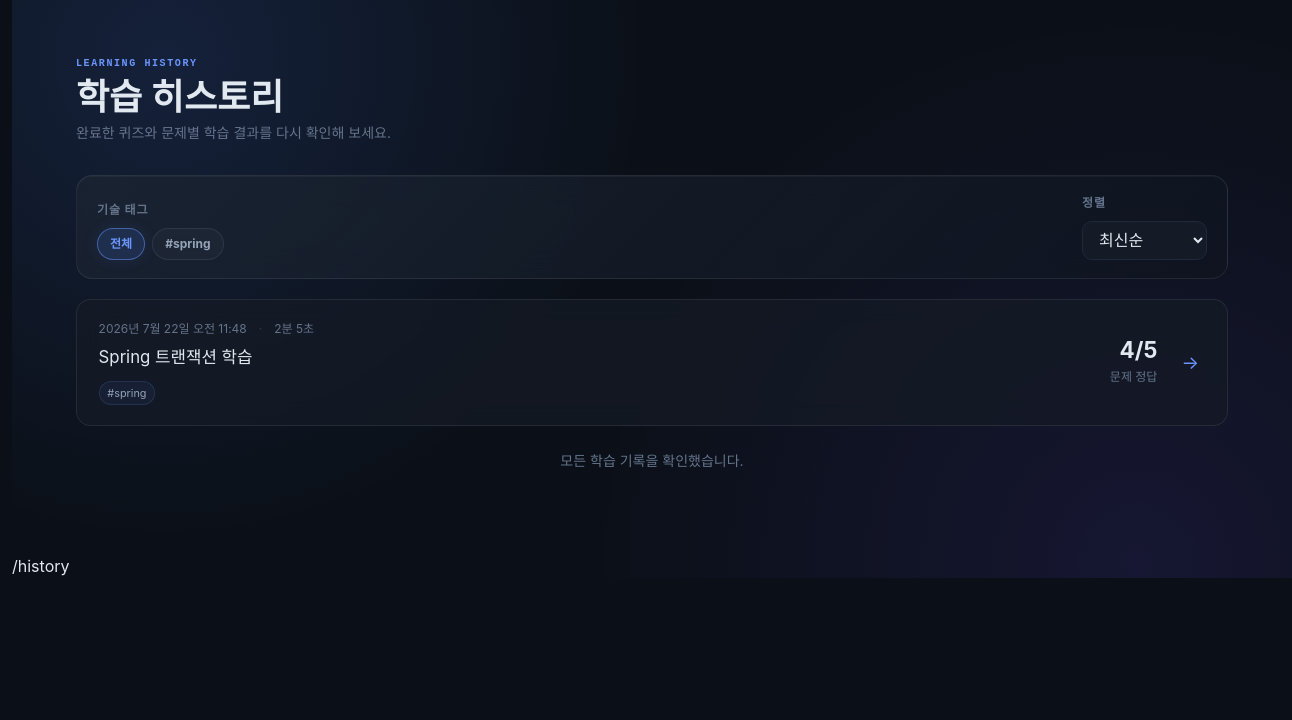
Test case: HistoryPage › 태그와 정렬 선택을 URL query 및 조회 조건에 반영한다
Step 1. Click the button "#spring" → (188, 244), box [152,228,224,260]
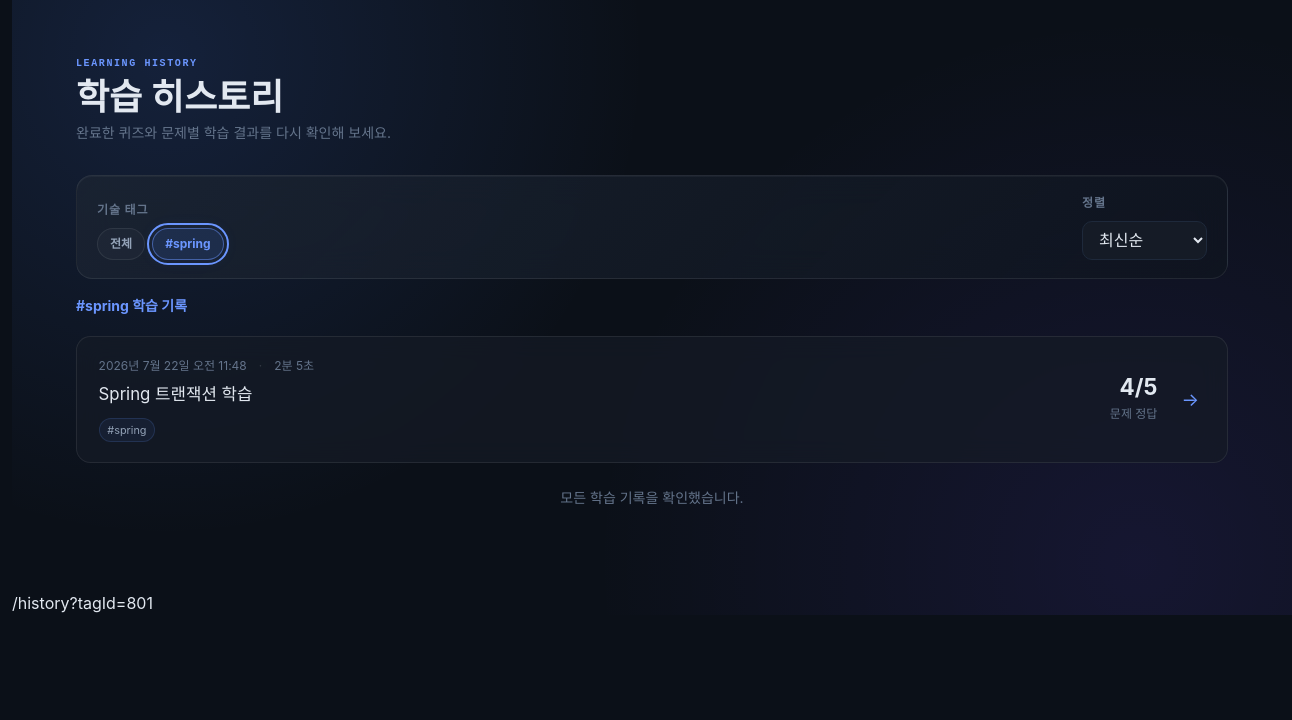
Result: the text named "현재 주소" reads "/history?tagId=801" at [12,593,153,613]
Step 2. Select "오래된순" in the dropdown labelled "정렬" → (1144, 240), box [1082,221,1207,260]
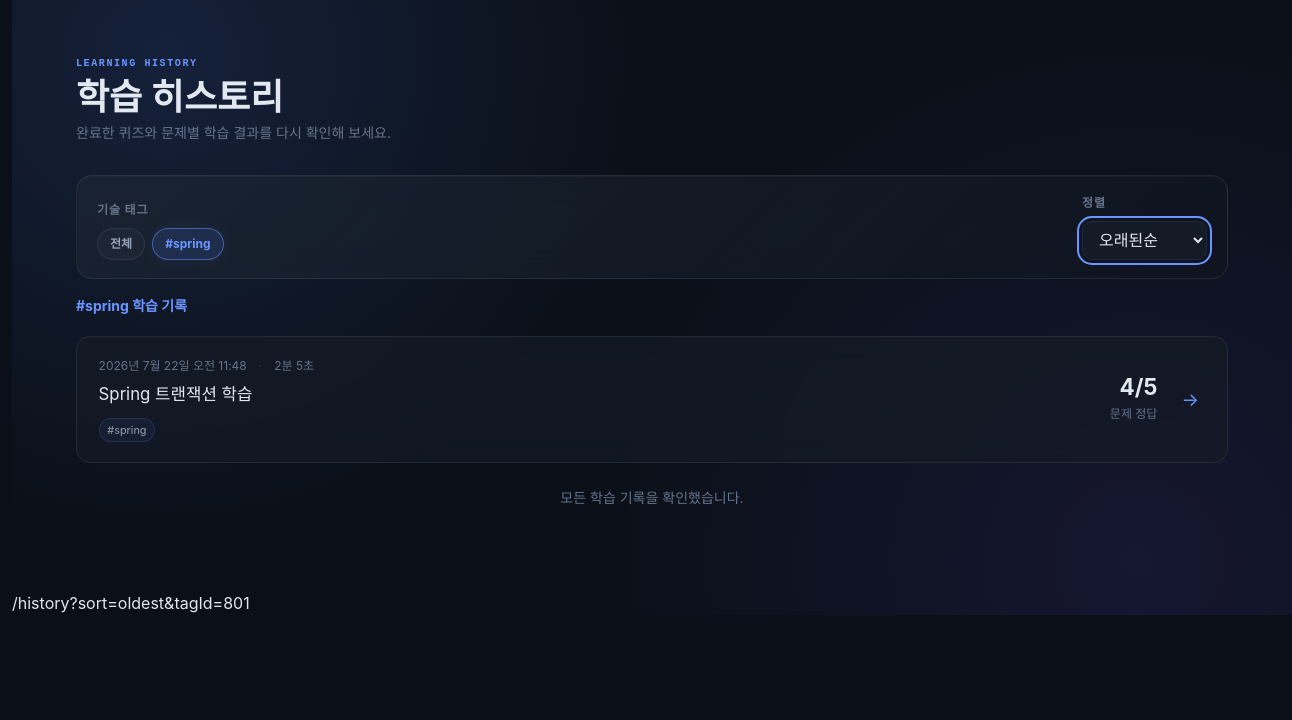
Result: the text named "현재 주소" reads "/history?sort=oldest&tagId=801" at [12,593,250,613]
